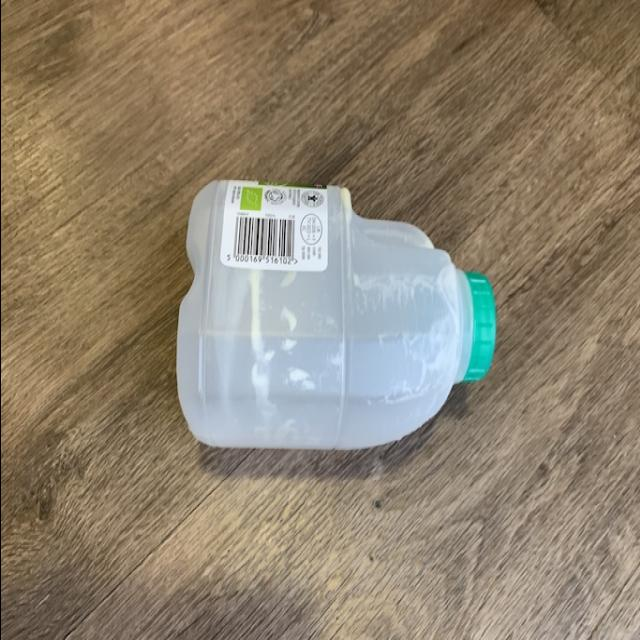HDPEM: (170, 178, 500, 458)
